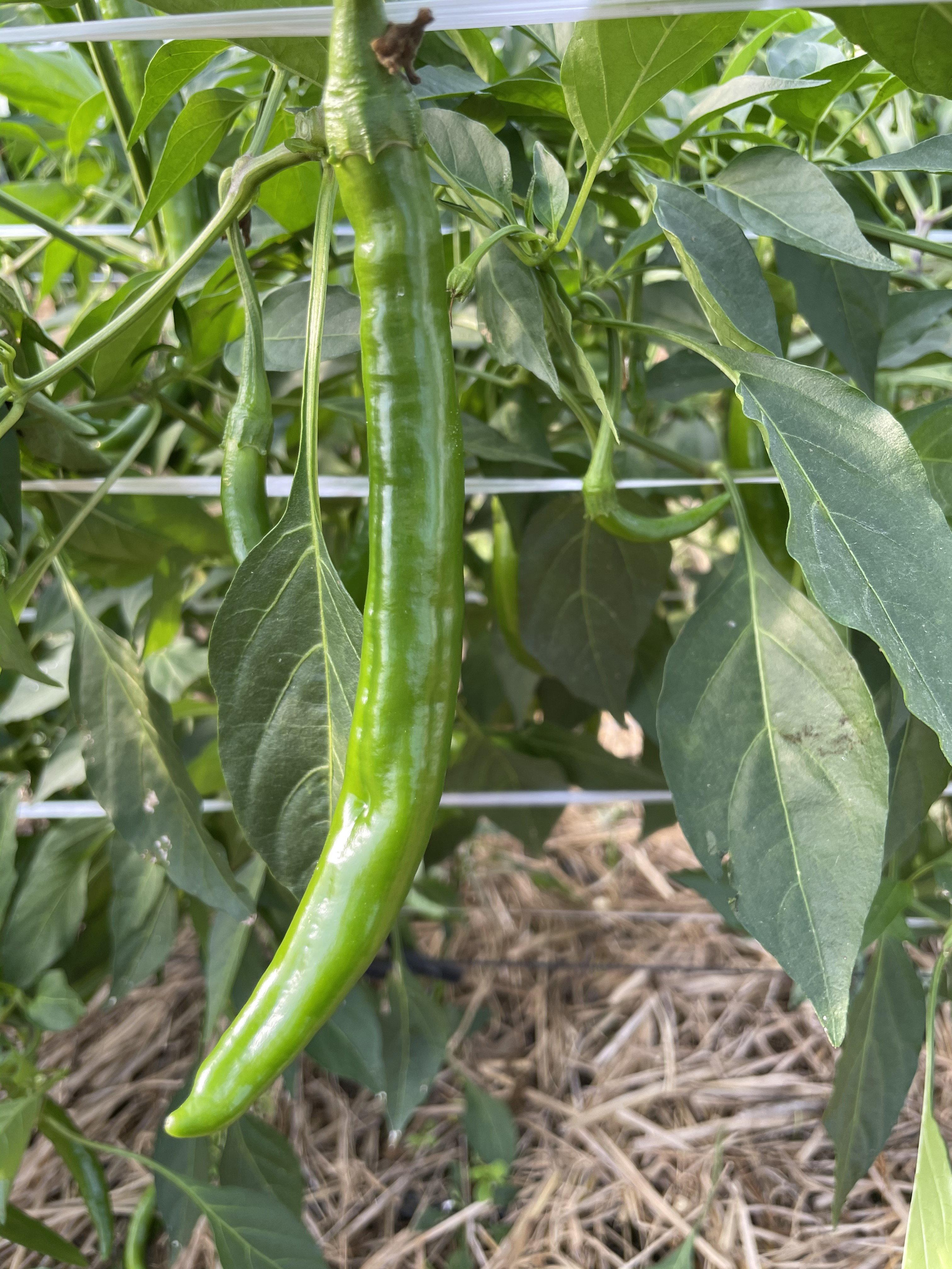Buah Cabai Sehat: (161, 5, 468, 1141)
Daun Cabai Sehat: (652, 530, 893, 1063), (664, 325, 952, 763), (208, 473, 364, 916)
